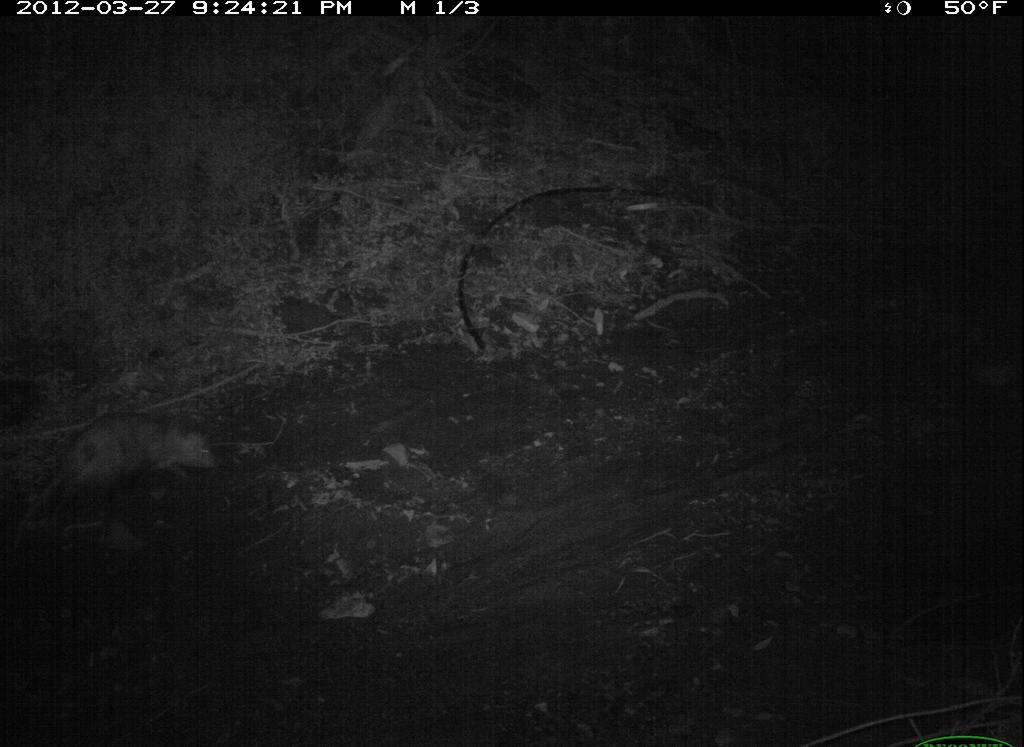opossum: (7, 405, 228, 571)
